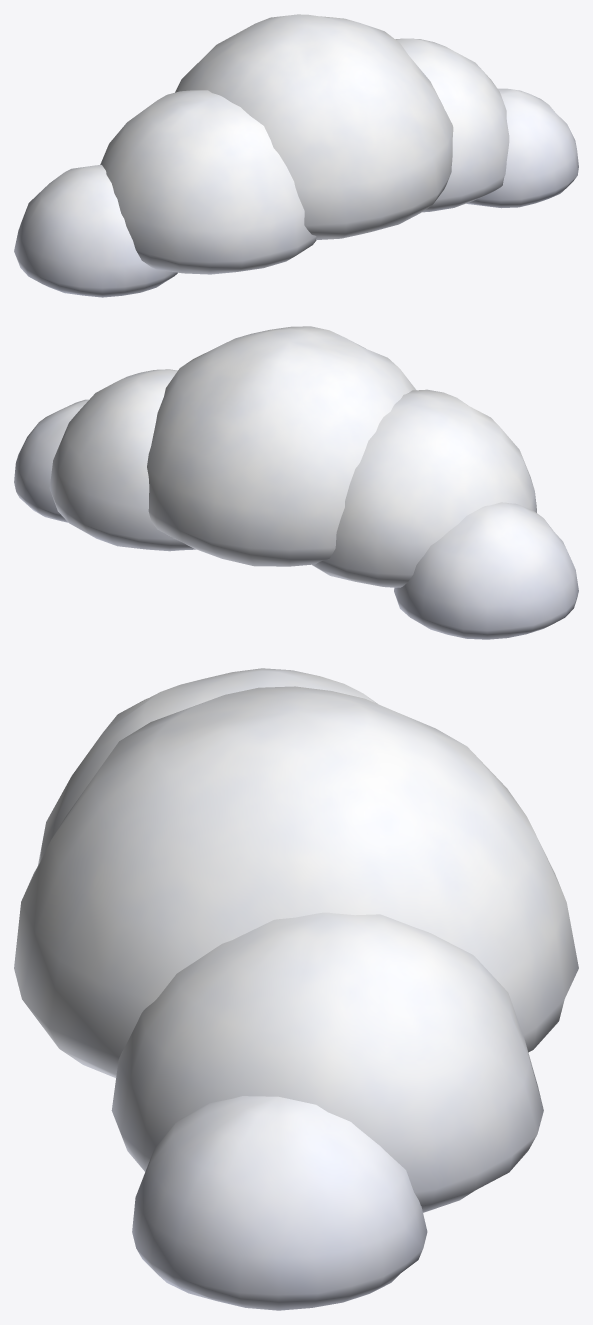
File: planeta2_nube2.obj
3 views of the same model, one above another, from view 1: azimuth 30°, elevation 25°; view 2: azimuth 150°, elevation 25°; view 3: azimuth 270°, elevation 25° (orthographic). The views are drawn at different scales.
Visible parts, largest first — view 1: planeta2_nube2; view 2: planeta2_nube2; view 3: planeta2_nube2.
Part boxes in pixels (x1,y1,x2,y2): planeta2_nube2: (14,14,578,297); planeta2_nube2: (14,326,578,639); planeta2_nube2: (14,668,578,1310).
Bounding box in the file's own units: 7 × 2.67 × 3.43.
